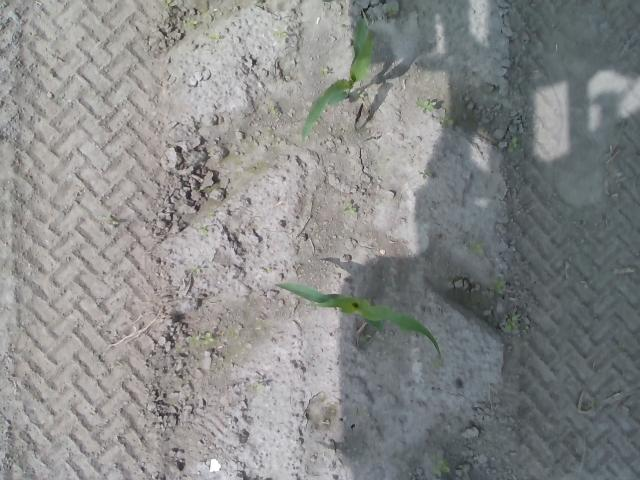Maize: (274, 280, 442, 361), (299, 15, 375, 142)
Weeds: (502, 314, 522, 334), (432, 454, 449, 477), (414, 100, 438, 114), (191, 332, 215, 346), (473, 241, 488, 258), (493, 279, 508, 296), (506, 136, 520, 152), (346, 200, 358, 216), (274, 26, 288, 39), (383, 4, 398, 16), (183, 18, 197, 30), (208, 33, 222, 44), (318, 66, 328, 77), (165, 0, 176, 8), (199, 228, 208, 236)
